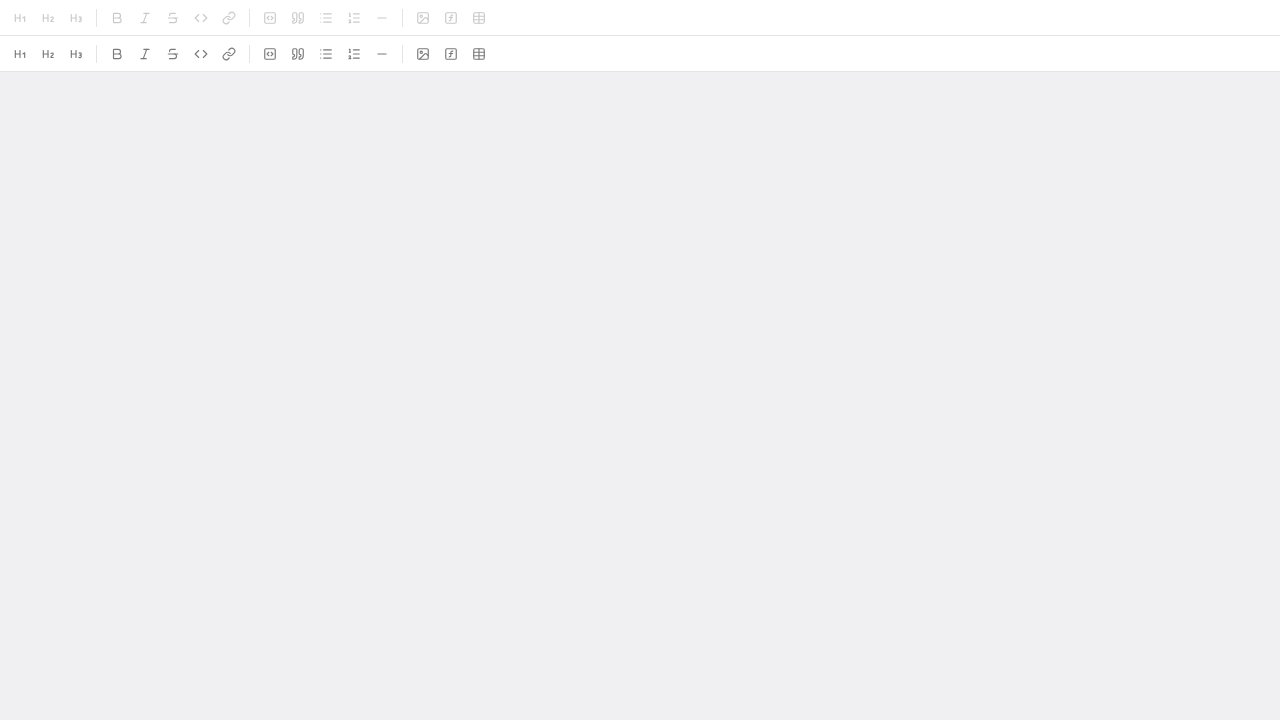
Test: FormatToolbar — link flow › clicking Link captures the selection as the modal's initial label
Click the 2nd button titled "Link" at point(229, 54), box [217, 42, 241, 66]
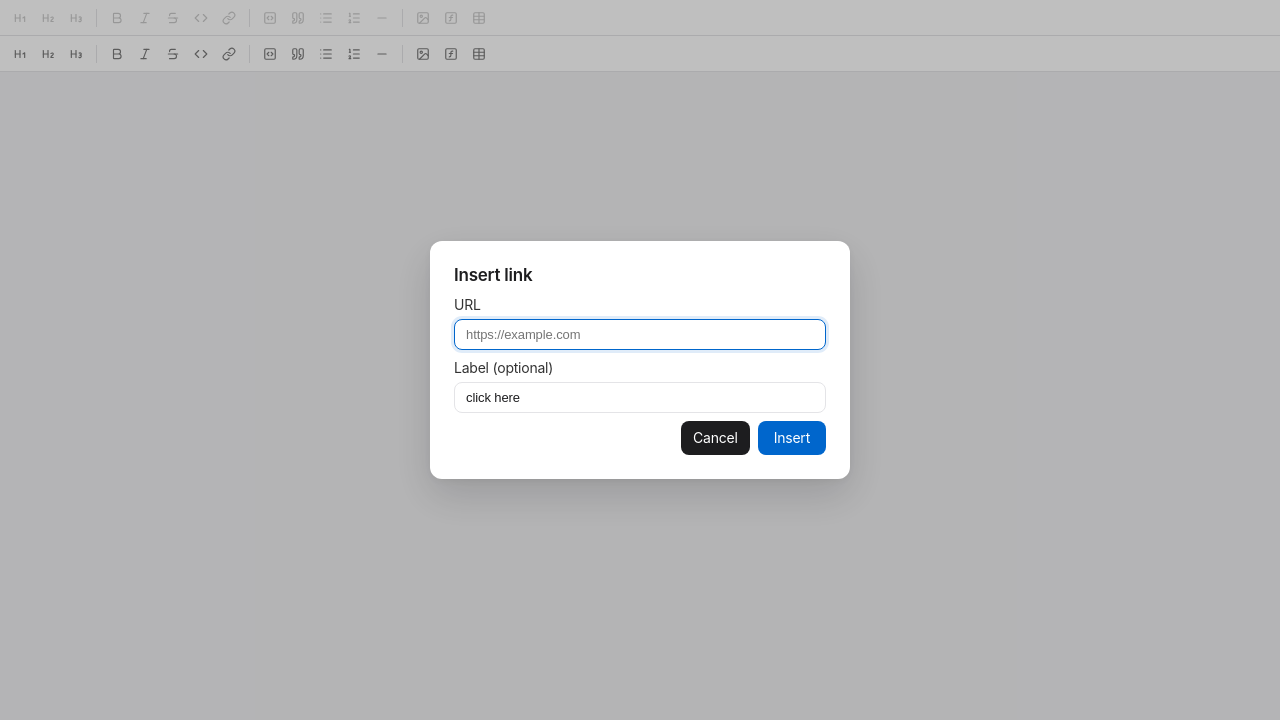
Now the field with class "link-modal-input" holds "click here", box [454, 382, 826, 412]
